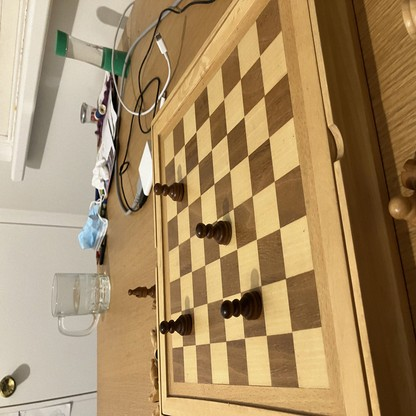bishop_black: (128, 283, 156, 299)
pawn_black: (222, 293, 260, 319), (195, 221, 231, 246), (160, 314, 192, 337), (154, 184, 183, 200)
